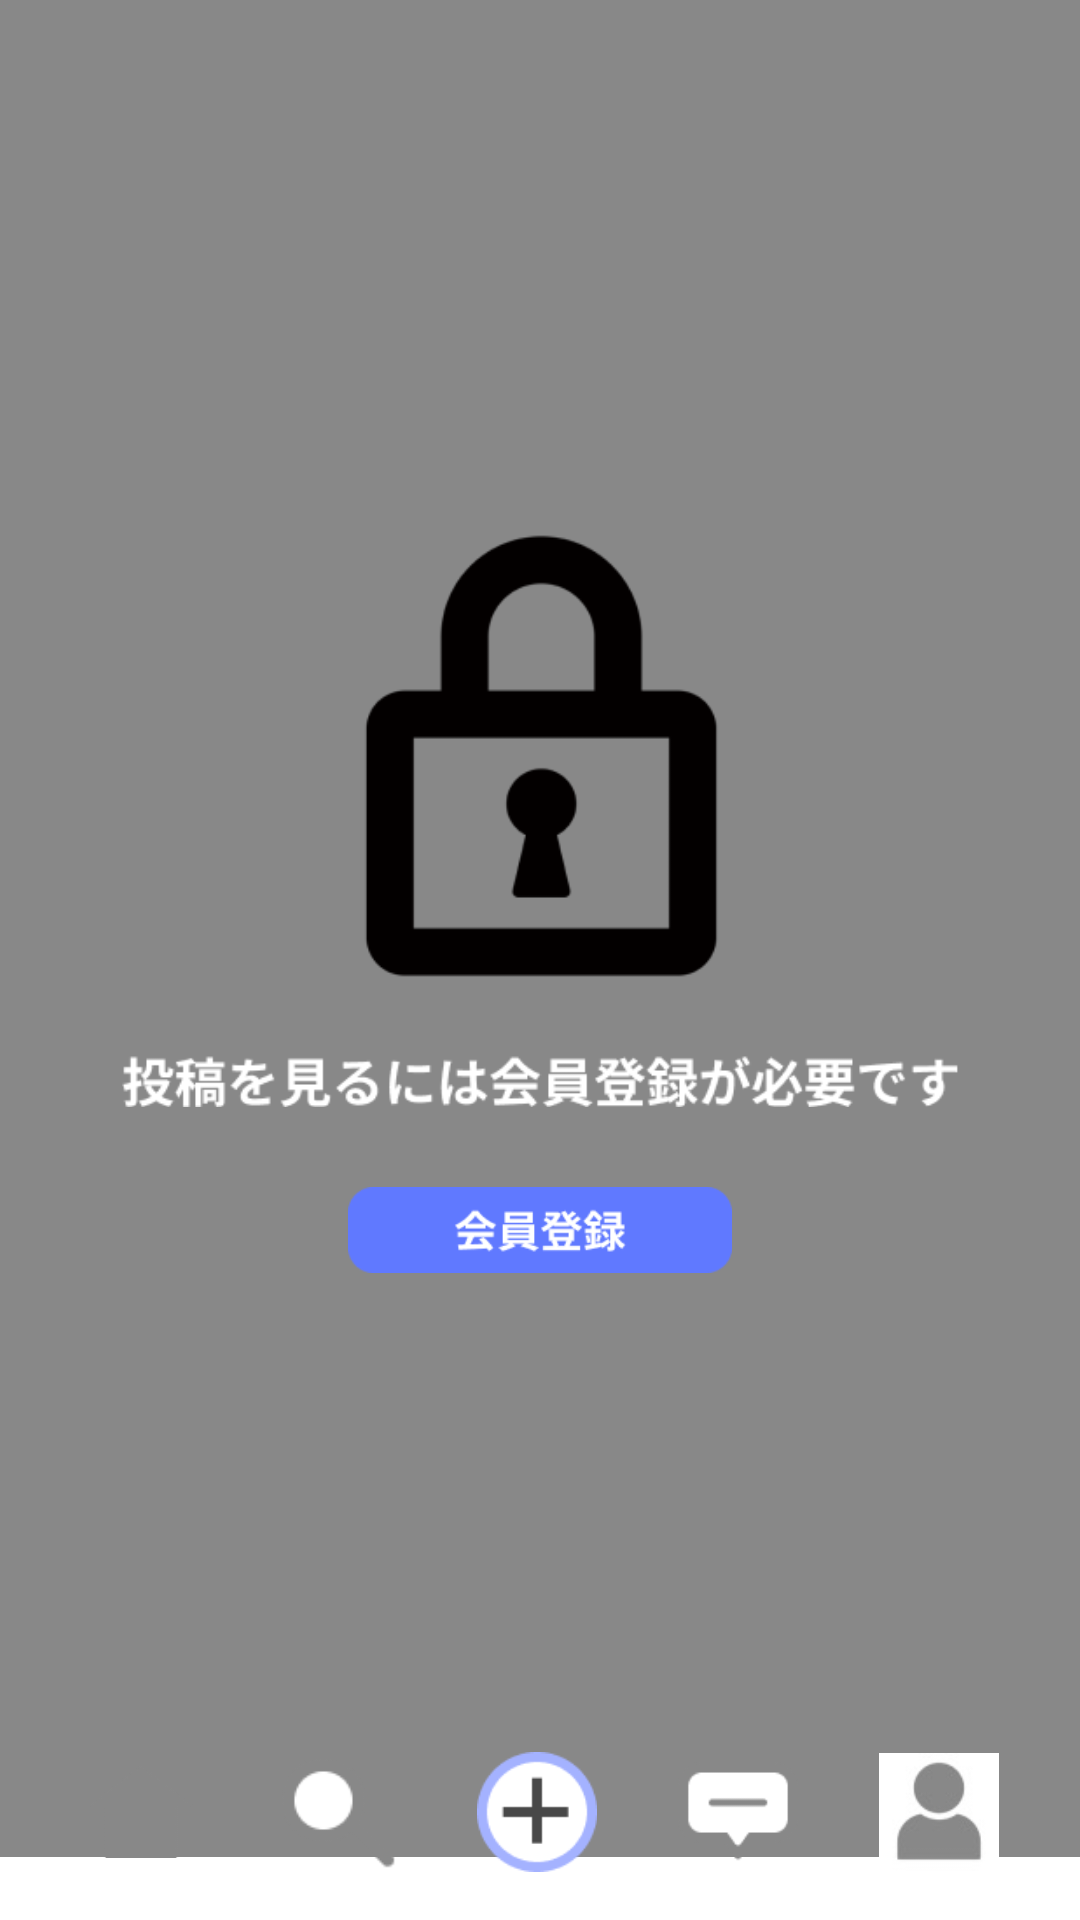

Named icons in this screenshot (1080px×1920px) and their bounding boxes, (x1, y1, x2, y2):
mypage: (879, 1753, 999, 1872)
post: (477, 1752, 597, 1872)
